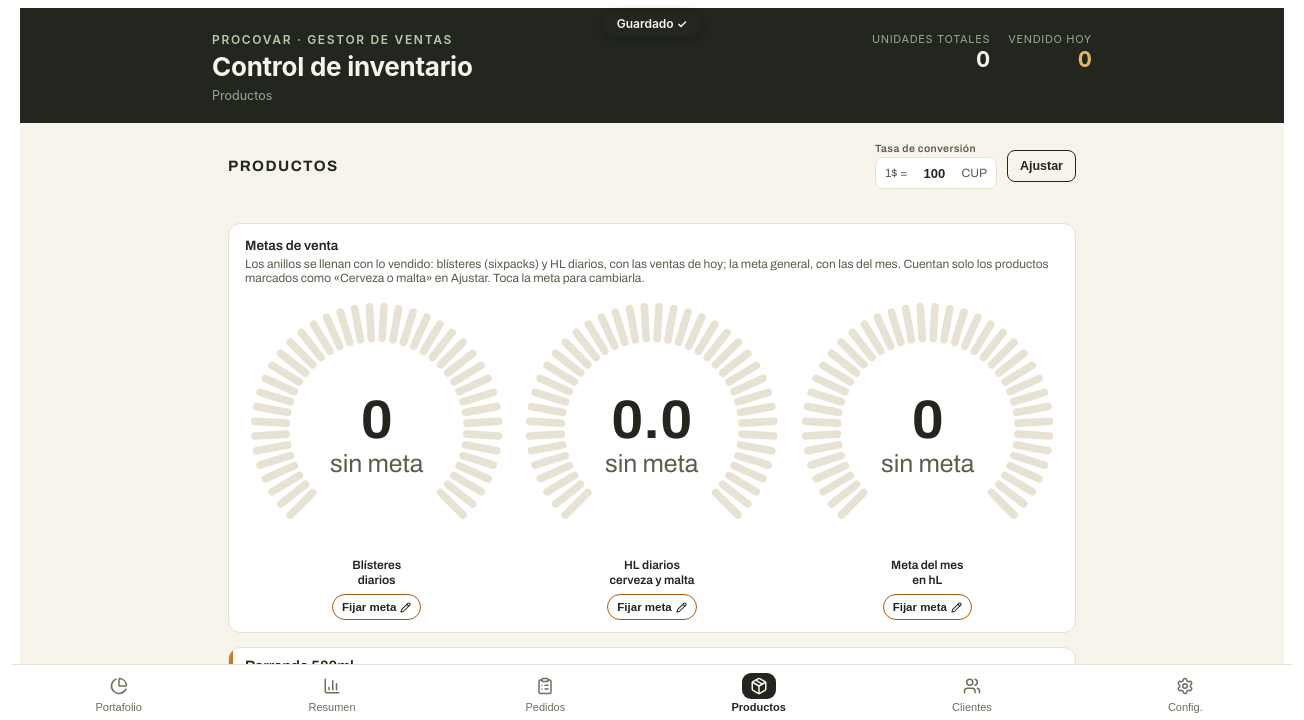
Ajustar: aclara cuánto es un formato completo › muestra el HL del sixpack junto al HL por unidad
Click the button "Ajustar" at (1041, 166), box [1007,150,1076,182]
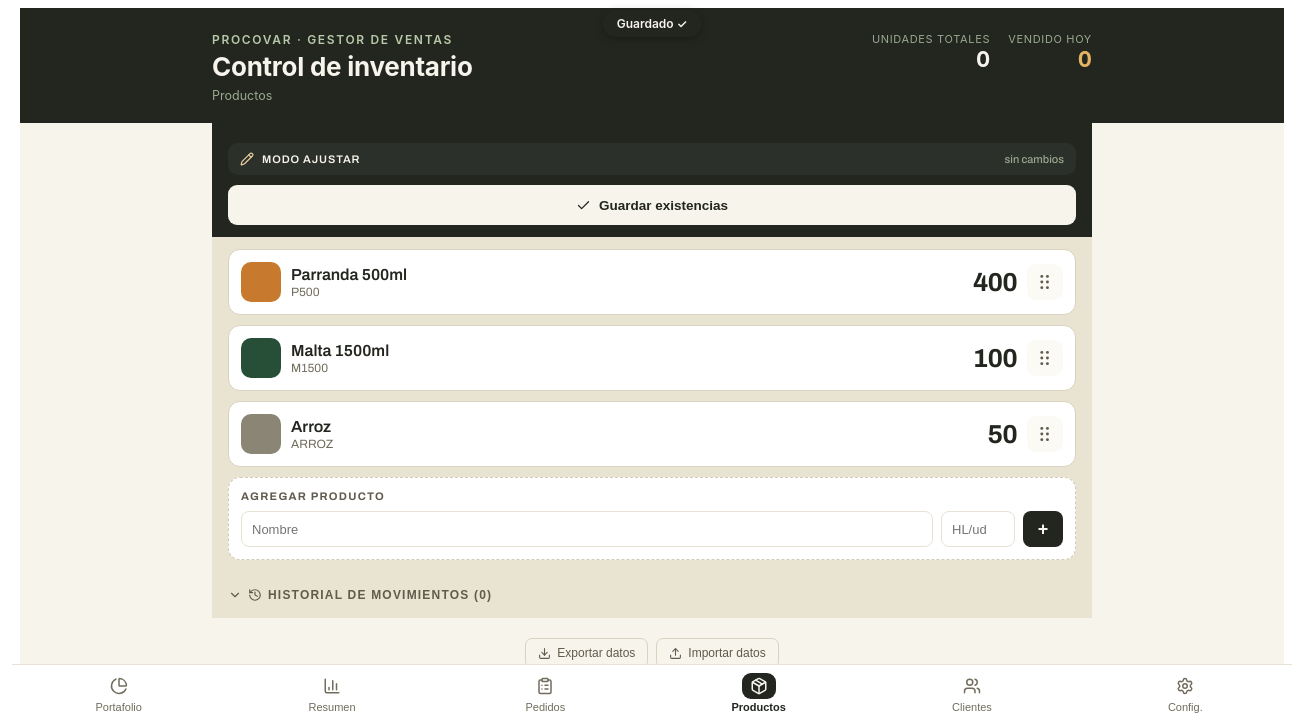
Click the element showing "Parranda 500ml P500 400" at (652, 282), box [228,249,1076,315]
(page scrolled)
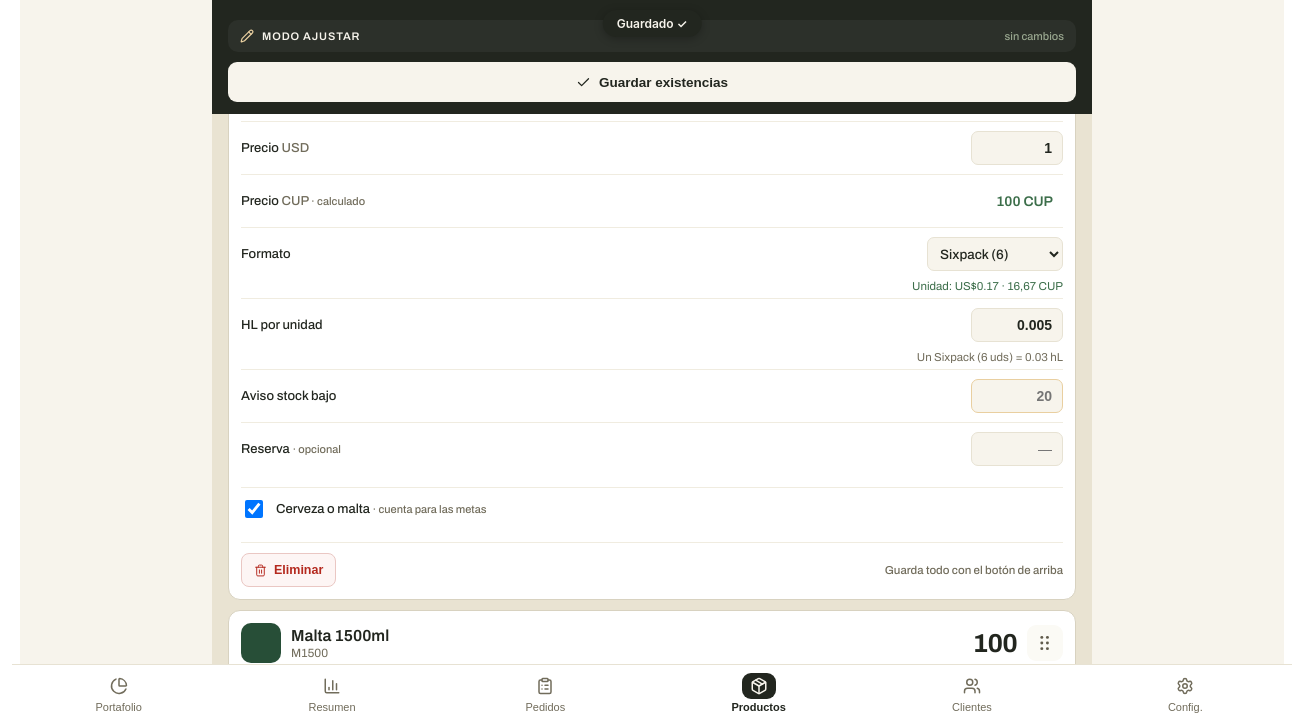
Now the text "Un Sixpack (6 uds) = 0.03 hL" is shown, box [917,351,1063,363]
